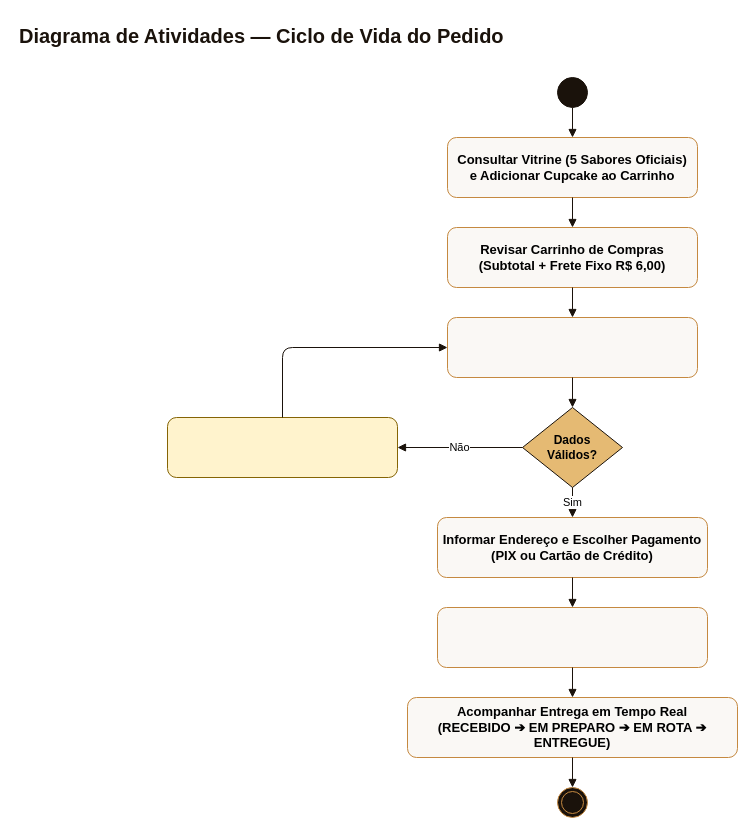
The diagram is 755 pixels wide and 835 high, and some of its shapes have lost their labels. Here are the shapes that lost their labels. From the top down, the centre of each, then its label:
At (x=572, y=347): "Identificar Cliente (Login ou Pré-cadastro)".
At (x=282, y=447): "Exibir Mensagens de Validação e Corrigir".
At (x=572, y=637): "Processar Pedido e Persistir no SQLite (Status: RECEBIDO)".
